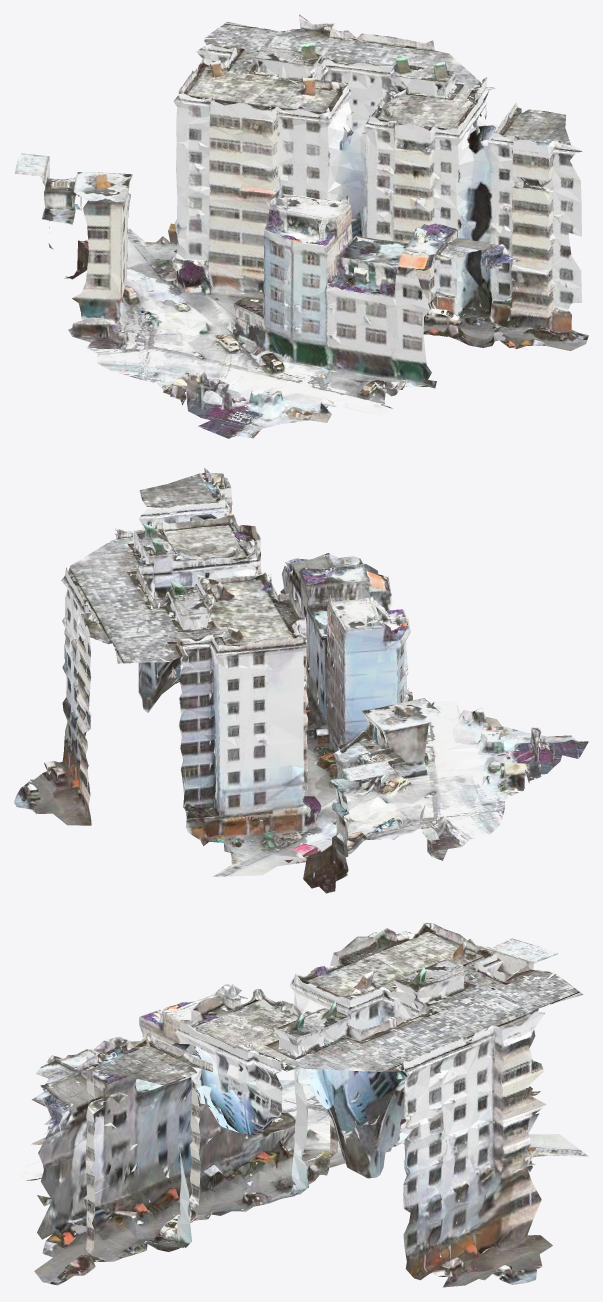
Rendered from Tile_+011_+018_L19_000031.glb.
The picture shows the model from 3 angles, top to bottom: view 1: azimuth 30°, elevation 25°; view 2: azimuth 150°, elevation 25°; view 3: azimuth 270°, elevation 25°; orthographic projection. The views are drawn at different scales.
Parts seen in each view (by area): view 1: rtc; view 2: rtc; view 3: rtc.
Part boxes in pixels (<box>): rtc: <box>14,14,588,438</box>; rtc: <box>14,468,588,893</box>; rtc: <box>14,922,588,1287</box>.
Bounding box in the file's own units: 58.08 × 30.48 × 60.76.
Materials: 1 (1 with a texture image).
